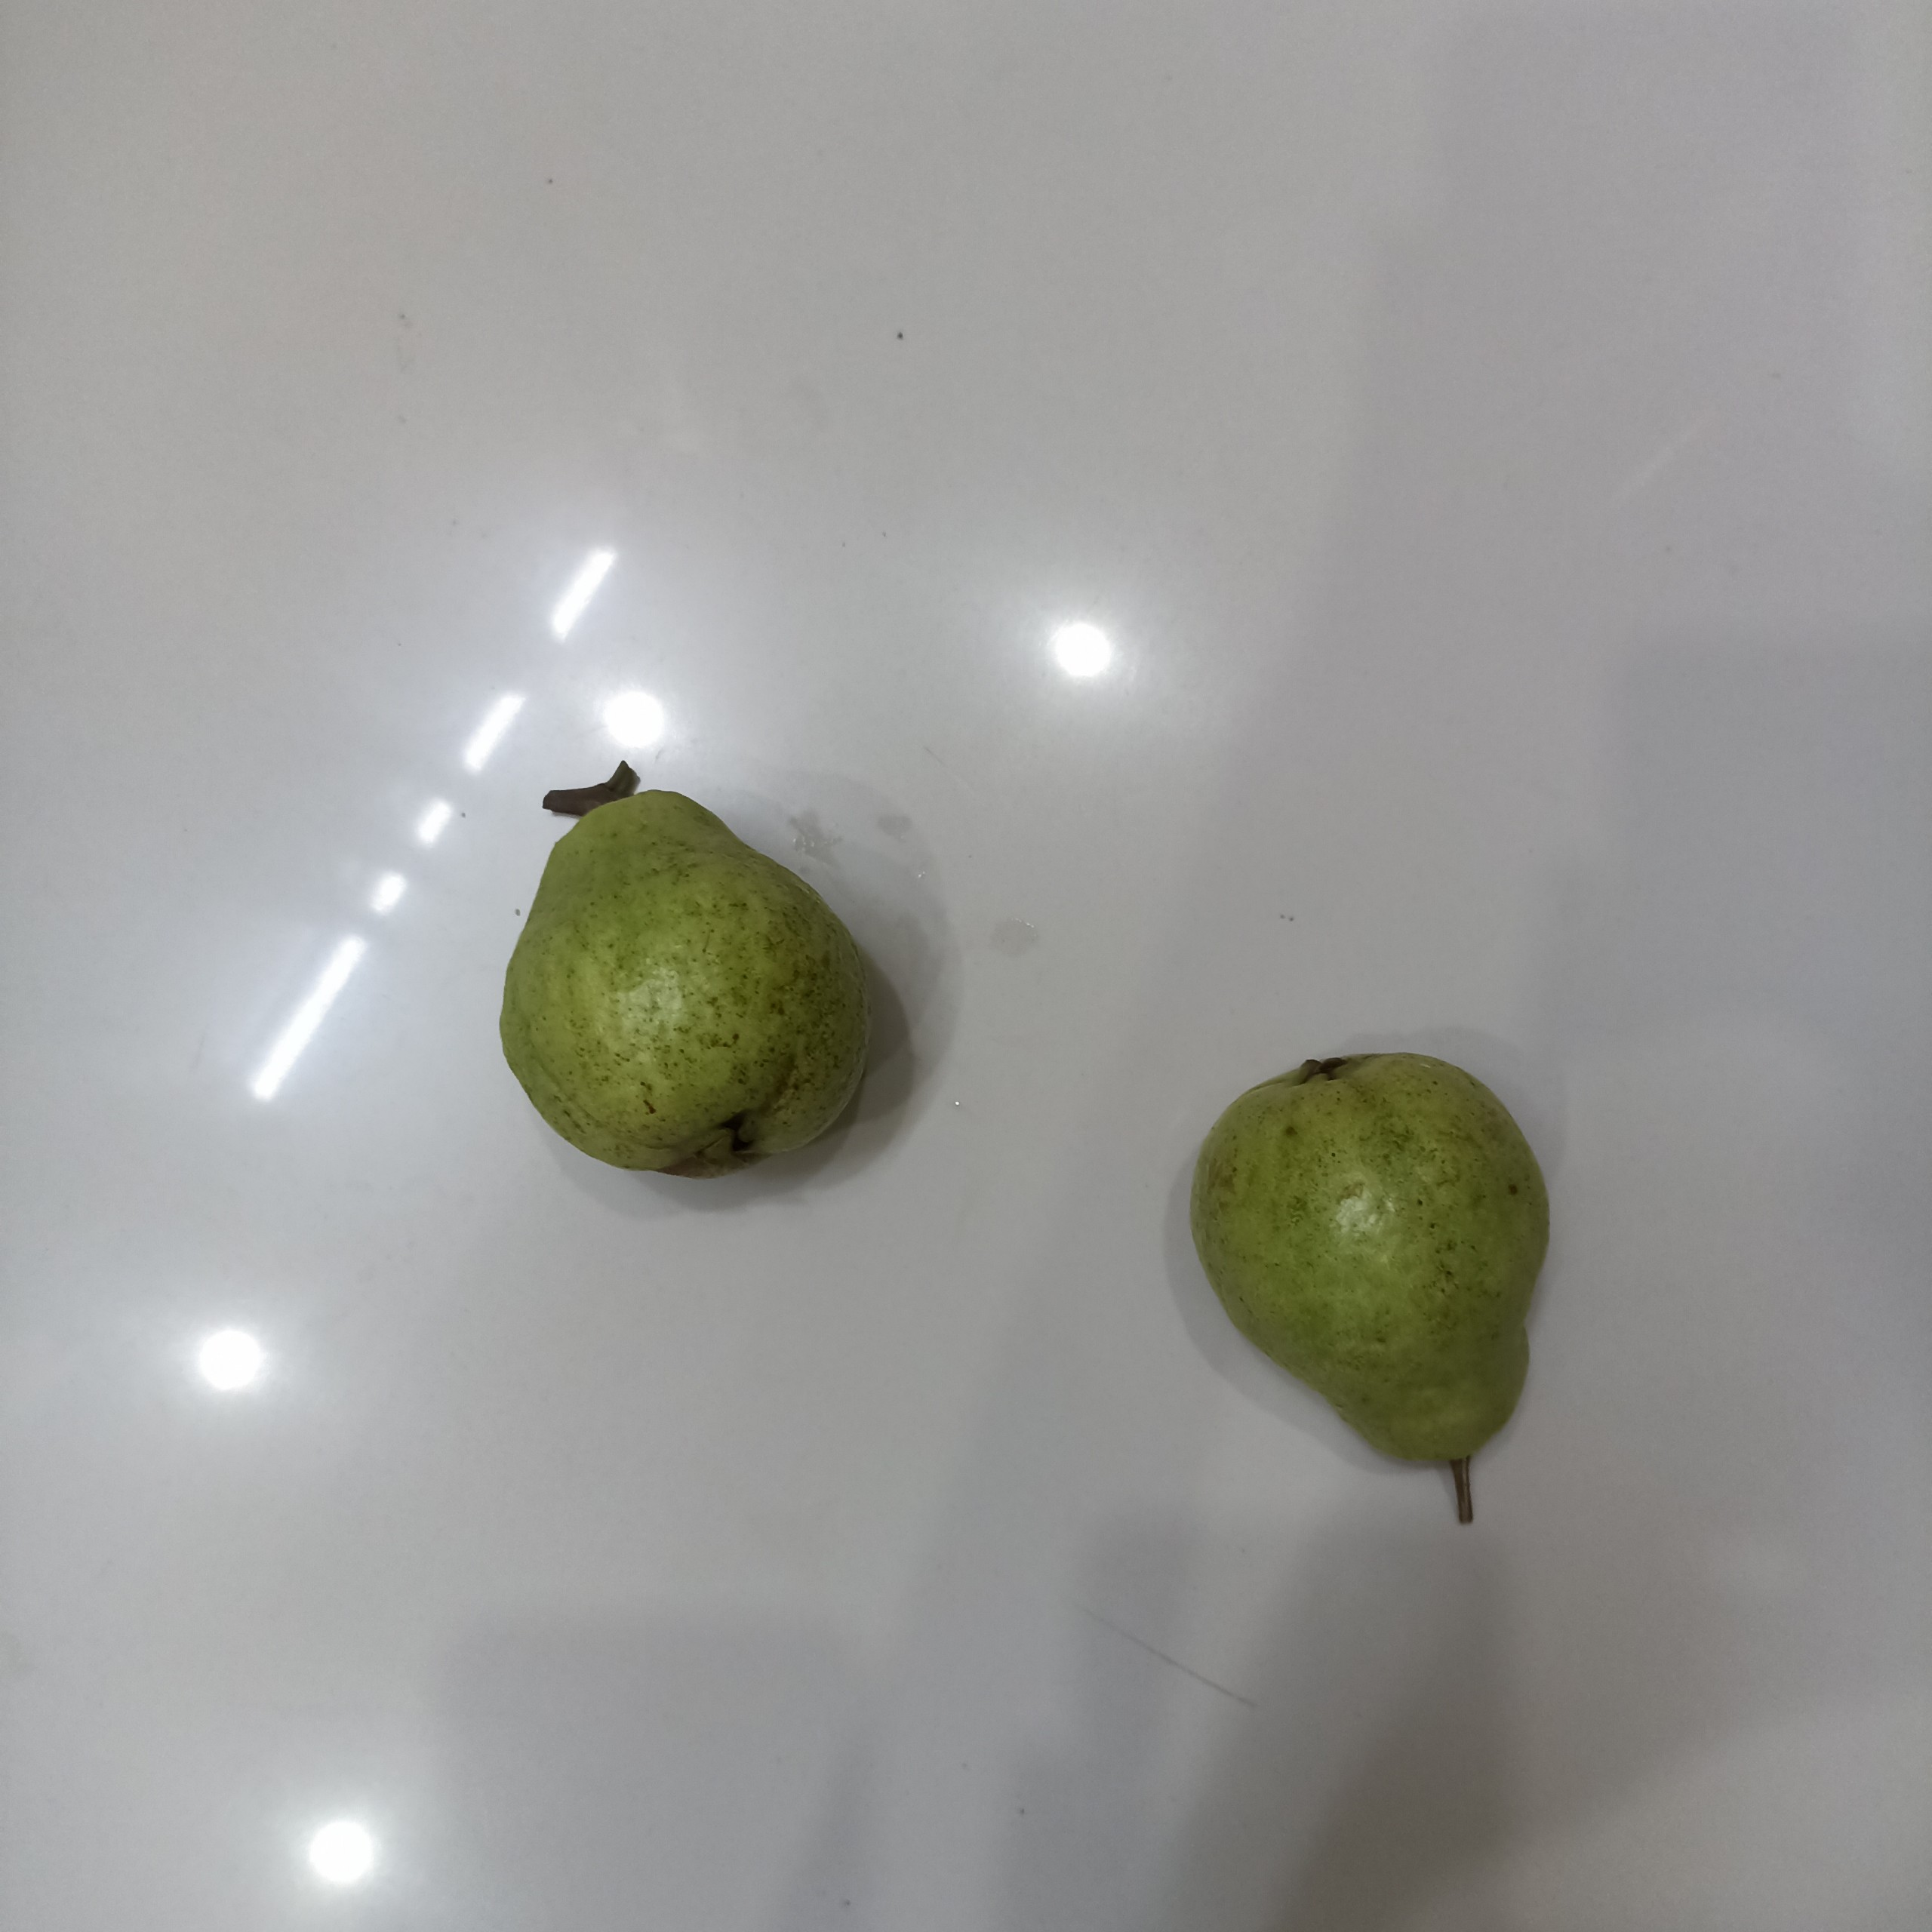Oi: (1184, 1053, 1552, 1483), (495, 782, 881, 1189)
